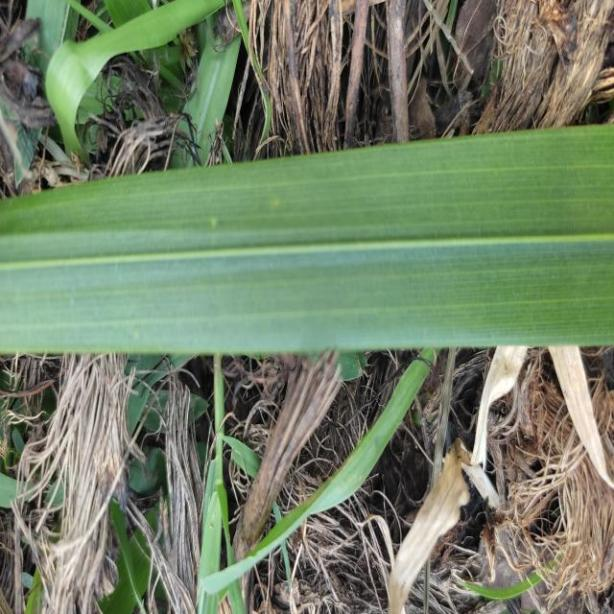Healthy: (0, 125, 614, 355)
